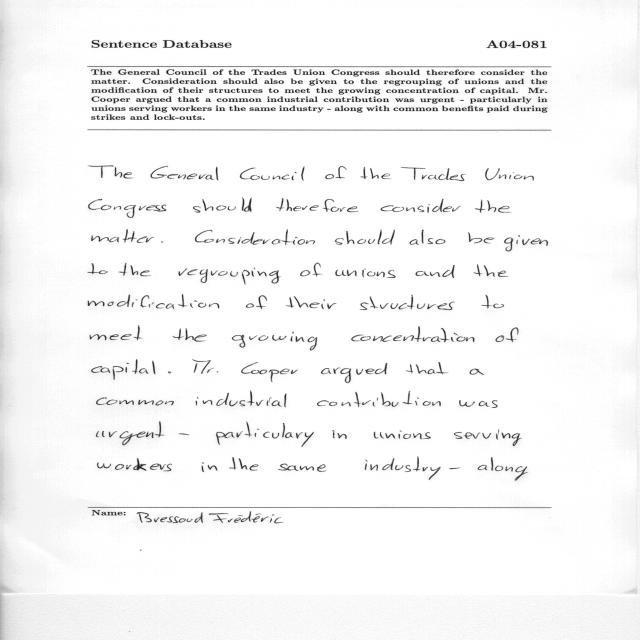word: (216, 422, 314, 447), (351, 326, 475, 342), (317, 391, 441, 407), (88, 295, 219, 310), (195, 229, 315, 245), (178, 268, 281, 285), (365, 457, 440, 480), (232, 332, 317, 351), (97, 422, 165, 445), (195, 391, 287, 407), (89, 199, 166, 218), (360, 295, 455, 310), (92, 359, 156, 380), (321, 363, 387, 383), (478, 457, 528, 481), (276, 198, 359, 212), (241, 362, 298, 382), (381, 199, 461, 213), (454, 430, 522, 446), (240, 166, 305, 181), (97, 458, 172, 471), (150, 166, 219, 180), (401, 167, 466, 181), (335, 230, 395, 245), (193, 198, 252, 213), (92, 230, 154, 243), (90, 326, 142, 341), (504, 235, 548, 252), (97, 397, 174, 406), (286, 296, 336, 309), (485, 168, 534, 181), (335, 268, 396, 278), (89, 166, 133, 179), (410, 230, 446, 245), (374, 431, 431, 440), (416, 265, 455, 278), (406, 362, 448, 374), (173, 328, 207, 342), (475, 200, 510, 213), (474, 264, 508, 277), (278, 463, 326, 472), (118, 263, 151, 276), (192, 359, 219, 374), (230, 457, 259, 470), (360, 167, 390, 179), (496, 328, 519, 343), (481, 295, 504, 309), (459, 400, 498, 408), (300, 263, 322, 277), (246, 295, 267, 309), (468, 232, 494, 243), (326, 166, 347, 179), (88, 263, 108, 274), (202, 463, 218, 473), (332, 430, 347, 439), (470, 369, 484, 375), (179, 434, 189, 436), (449, 468, 460, 469), (161, 241, 164, 243), (168, 371, 171, 373)
